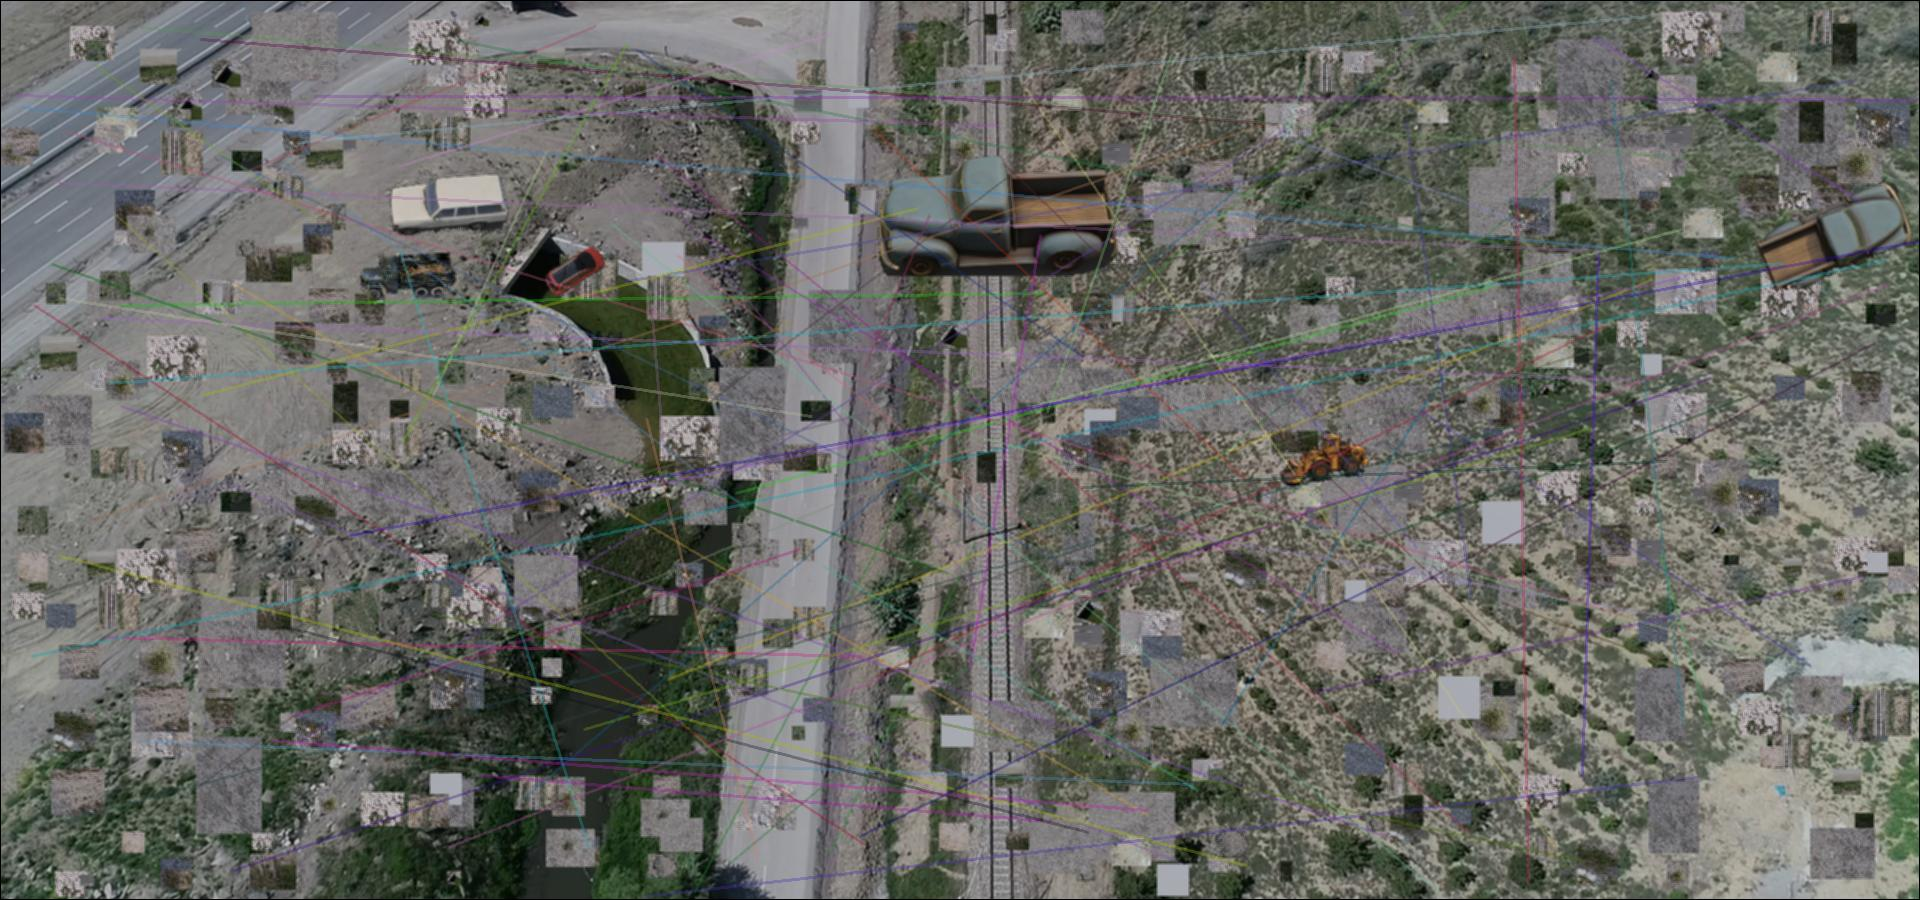arac: (877, 156, 1117, 276), (1755, 175, 1918, 291), (387, 174, 509, 238), (1277, 427, 1371, 486), (360, 250, 457, 302), (546, 246, 606, 296)
